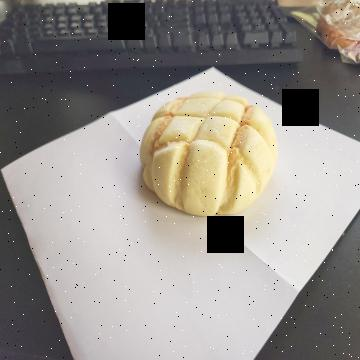melon_bread: (141, 92, 279, 217)
